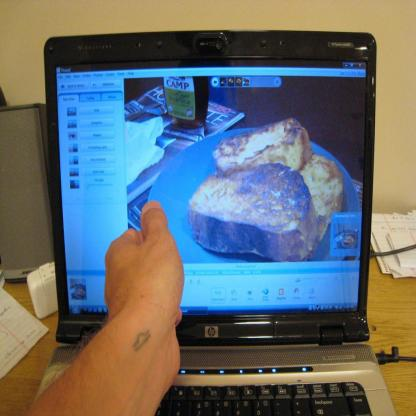board: (33, 30, 397, 416)
